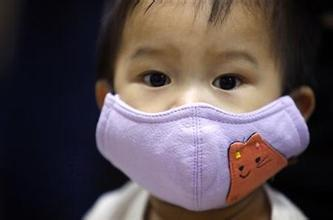OK: (103, 33, 294, 207)
